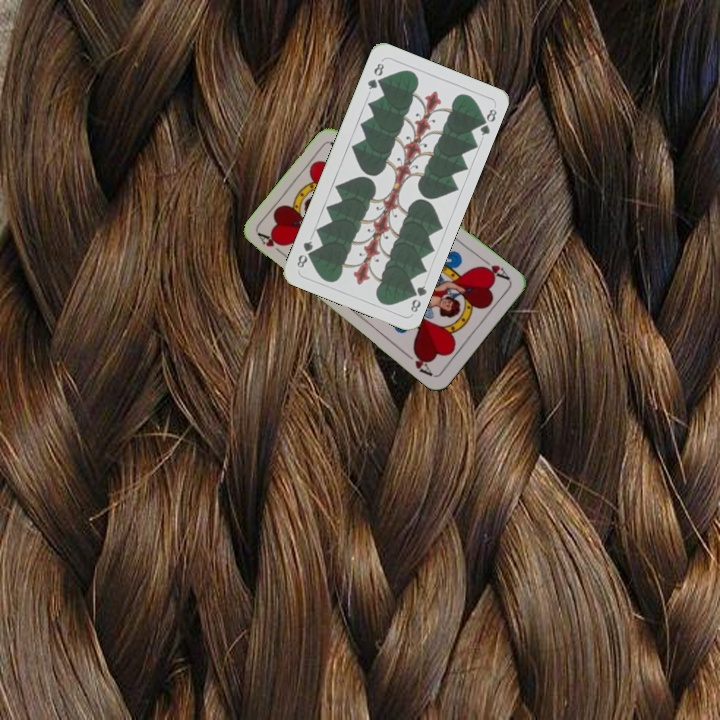G8: (405, 281, 429, 315), (363, 59, 387, 92)
HA: (254, 229, 289, 260), (476, 254, 513, 283)
